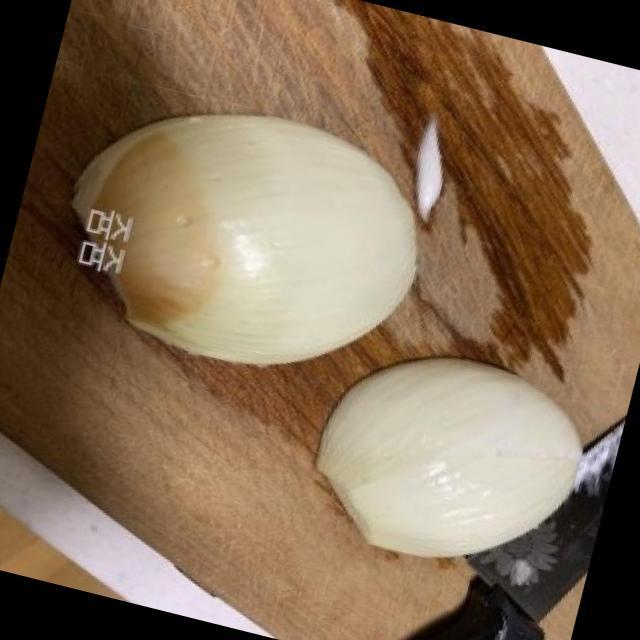Onion: (80, 112, 415, 365), (321, 361, 585, 563)
